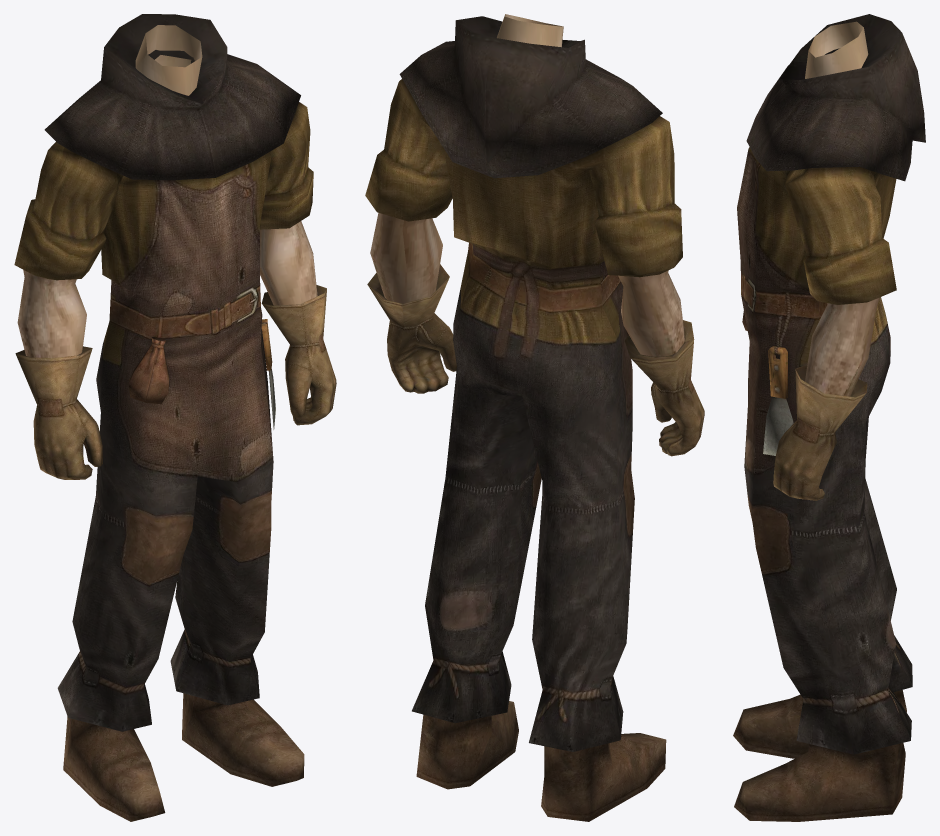
Rendered from ARMOR_GRAVEDIGGER_01.glb.
The picture shows the model from 3 angles, left to right: view 1: azimuth 30°, elevation 25°; view 2: azimuth 150°, elevation 25°; view 3: azimuth 270°, elevation 25°; orthographic projection. The views are drawn at different scales.
Parts seen in each view (by area): view 1: ARMOR_GRAVEDIGGER_01; view 2: ARMOR_GRAVEDIGGER_01; view 3: ARMOR_GRAVEDIGGER_01.
Part boxes in pixels (x1,y1,x2,y2): ARMOR_GRAVEDIGGER_01: [14, 14, 336, 821]; ARMOR_GRAVEDIGGER_01: [365, 14, 704, 821]; ARMOR_GRAVEDIGGER_01: [733, 14, 925, 821].
Bounding box in the file's own units: 0.7156 × 1.68 × 0.3922.
Materials: 2 (2 with a texture image).
